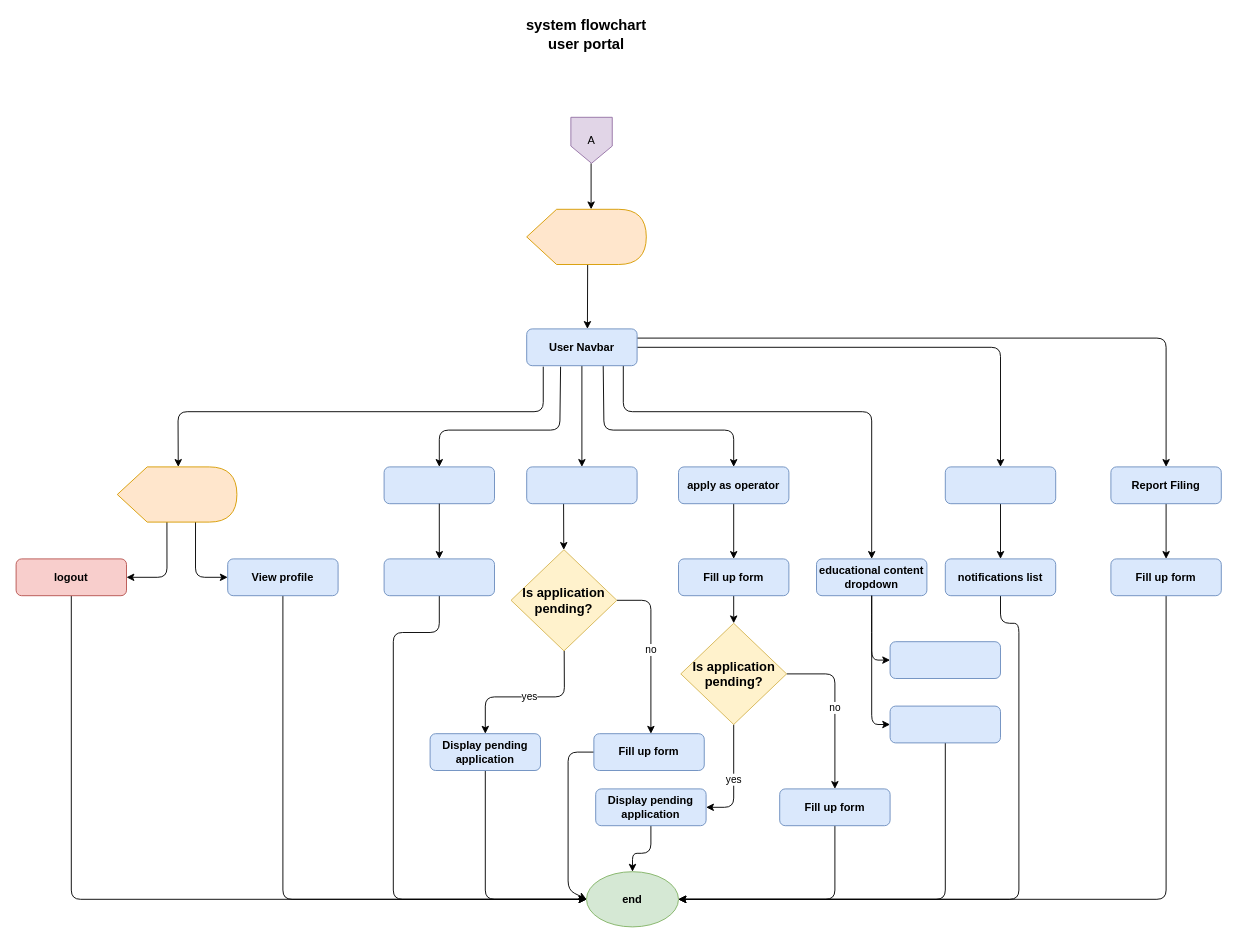
Image size: 1237x943. Some labels were removed from this diagram. Each missing label, with the centre of its shape:
apply as driver: (x=581, y=485)
display of profie dropdown: (x=176, y=494)
Display of user dahsboard: (x=586, y=236)
Educational content list: (x=944, y=659)
notifications: (x=1000, y=485)
Quiz list: (x=944, y=724)
view violations: (x=438, y=485)
view violations list: (x=438, y=577)
